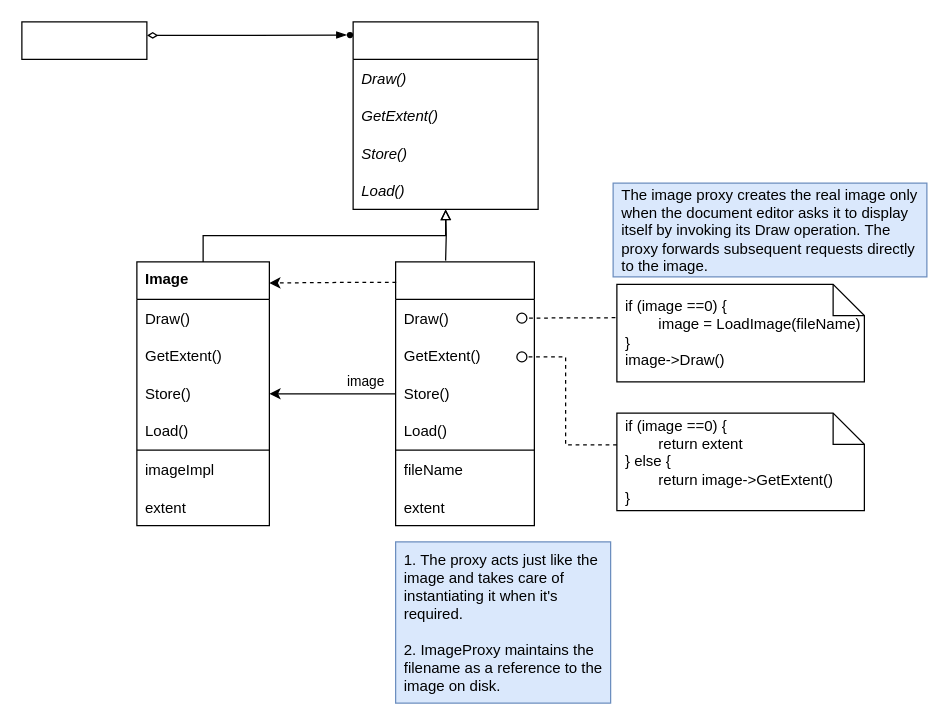
Image size: 949x725. Some labels were removed from this diagram. Each missing label, with the box of its shape:
DocumentEditor: (21, 21, 147, 59)
Graphic: (352, 21, 538, 209)
ImageProxy: (394, 261, 534, 526)
